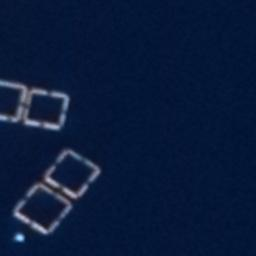square_solid: (9, 176, 79, 239), (41, 144, 105, 203), (21, 85, 72, 137), (1, 75, 31, 130)
